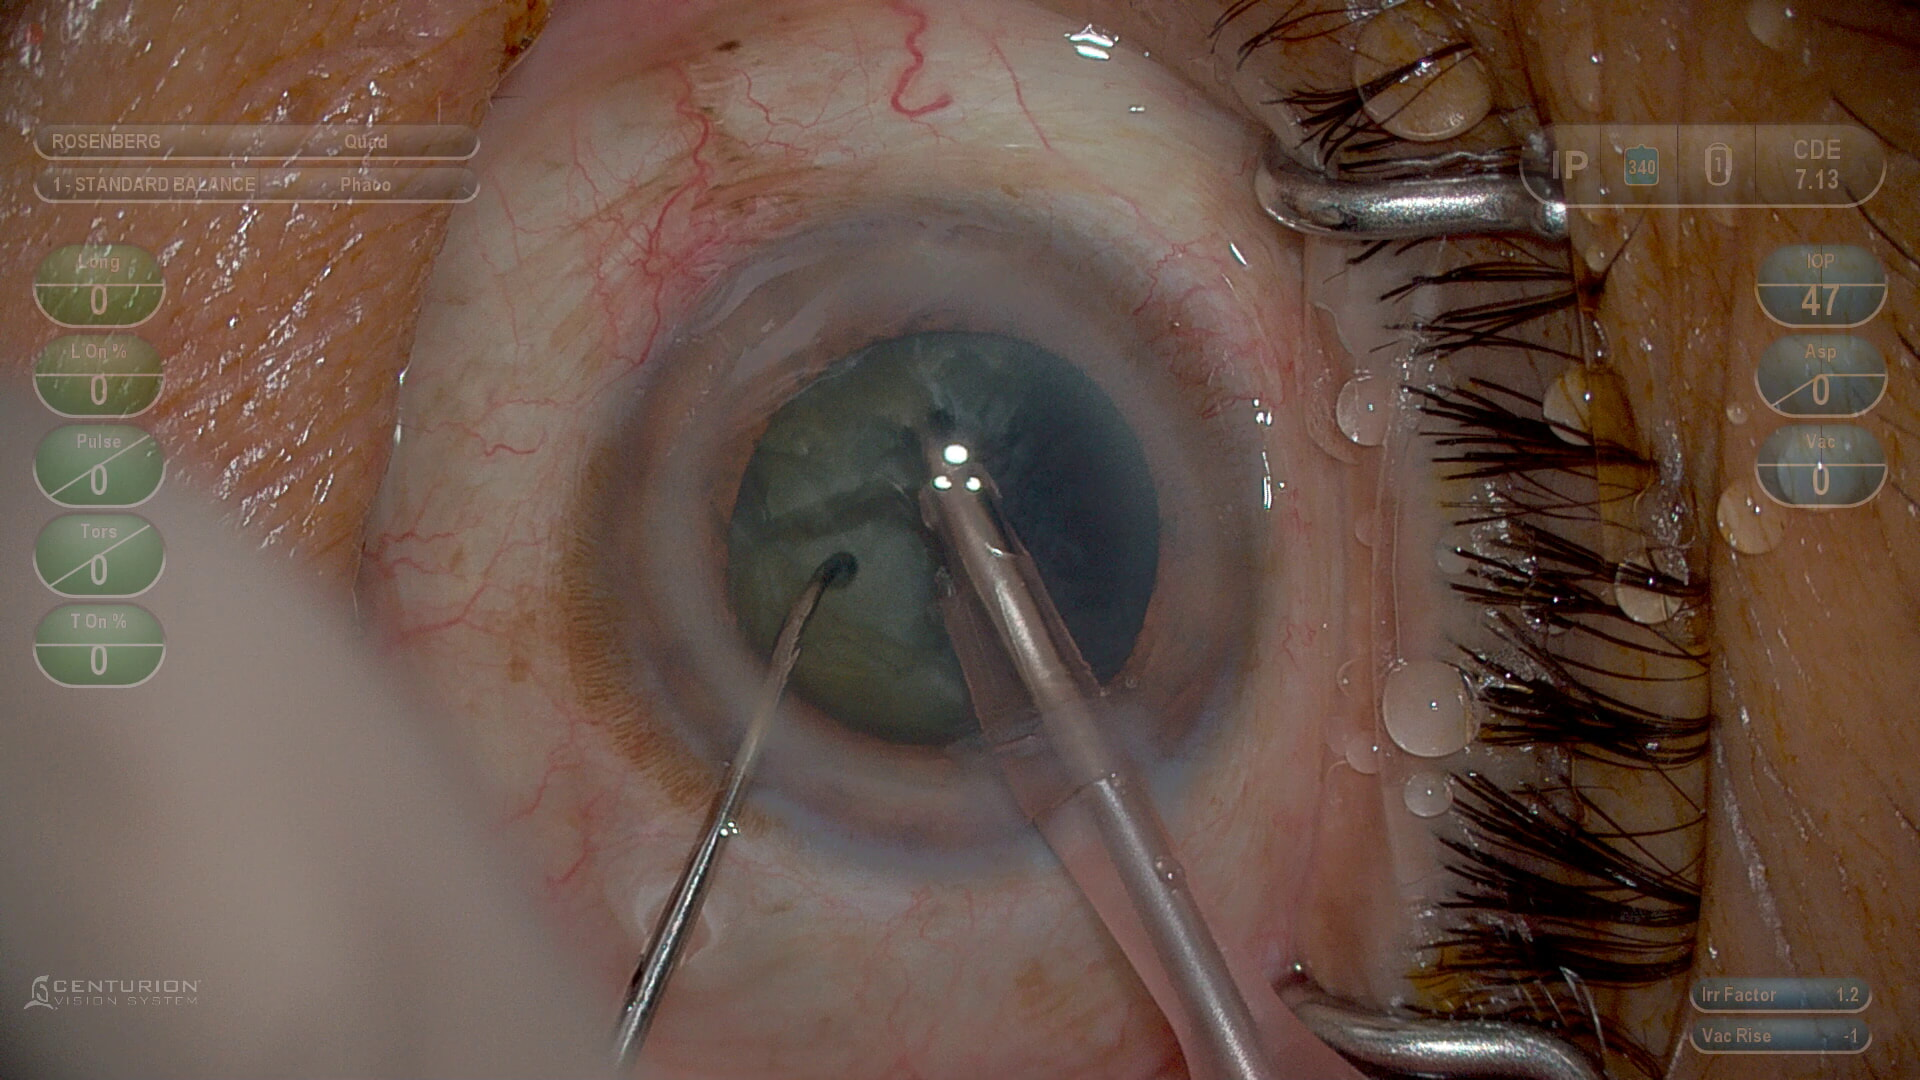iris: (627, 224, 1235, 834)
pupil: (727, 328, 1149, 751)
